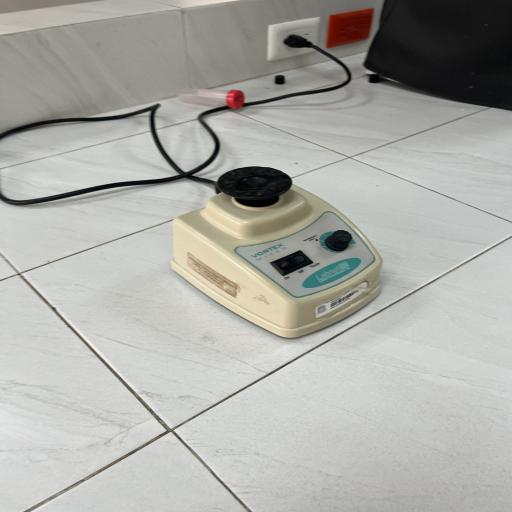Vortex_Mixer_LabNet: (142, 145, 422, 353)
